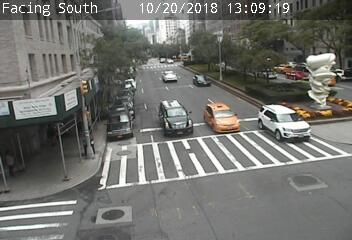car: (259, 105, 309, 140), (156, 103, 190, 131), (203, 104, 238, 127), (192, 74, 210, 87), (162, 71, 176, 83)
